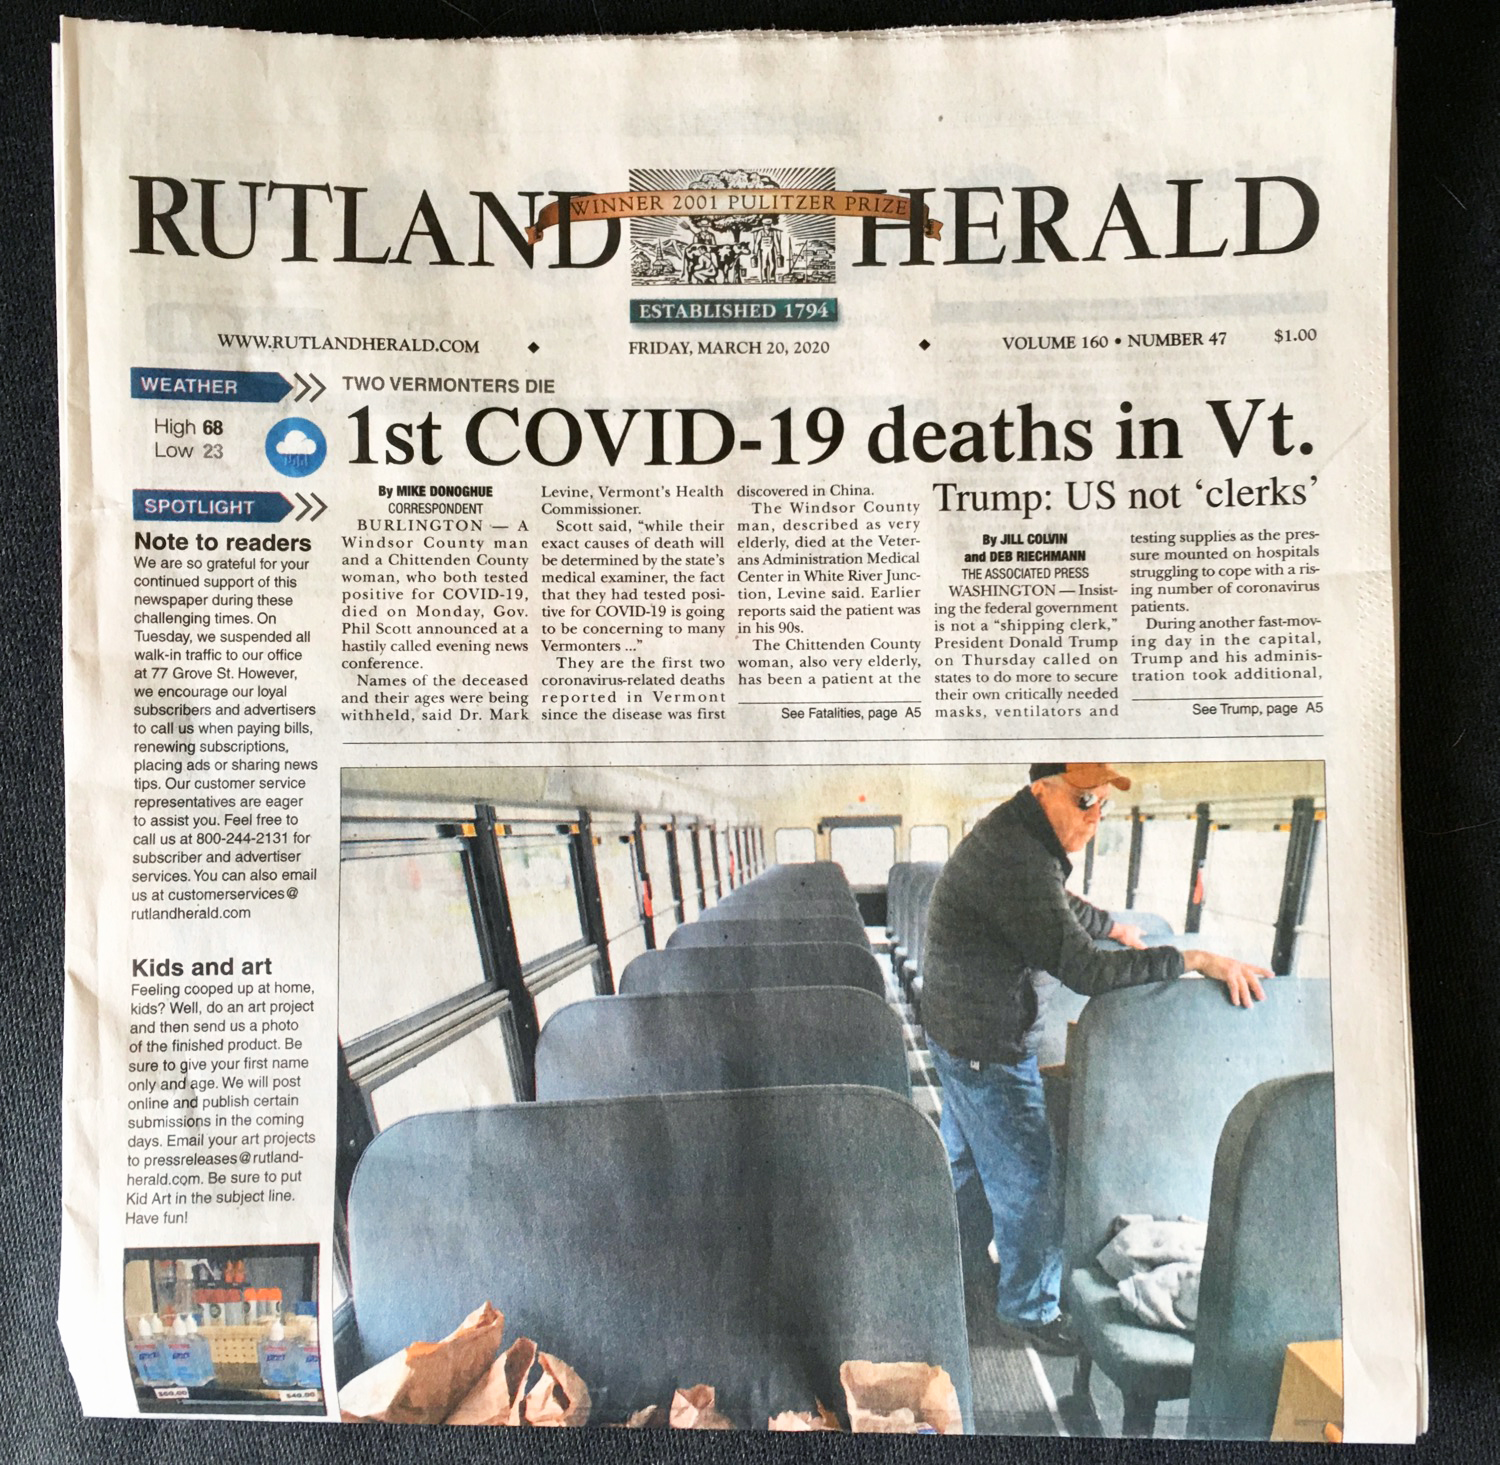news_paper: (27, 1, 1450, 1465)
